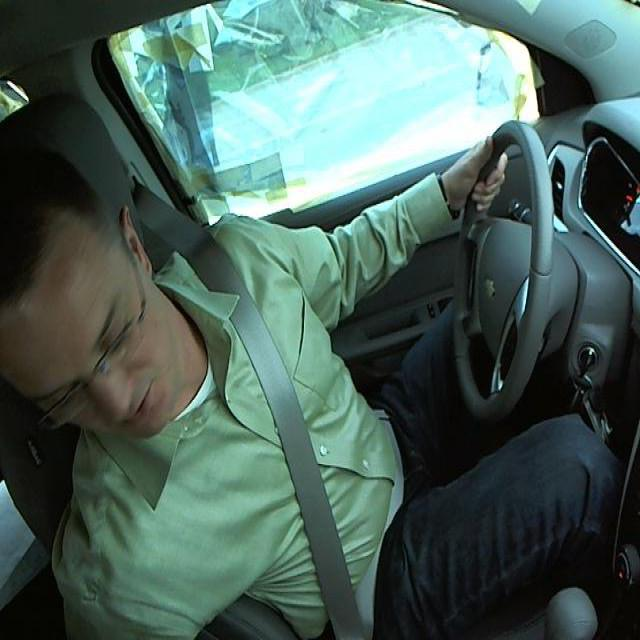seatbelt: (209, 275, 387, 636)
